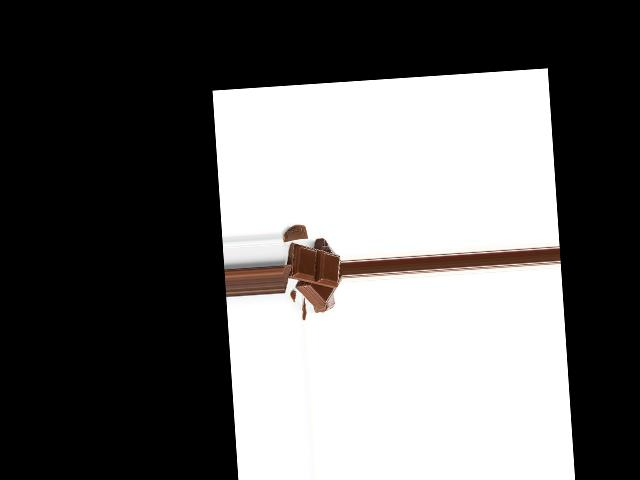chocolate: (287, 241, 339, 291)
